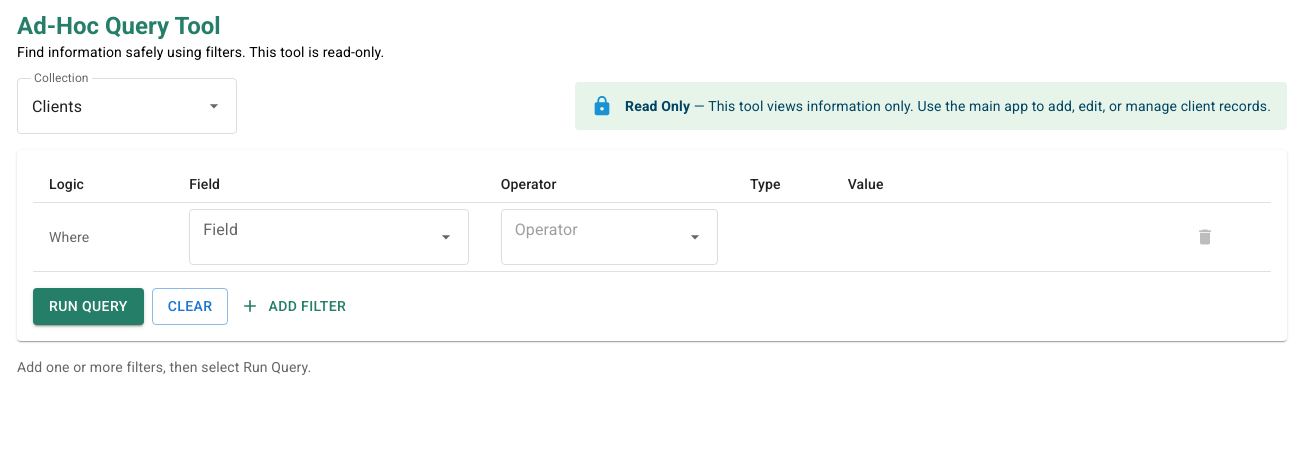
Test case: ClientQueryTool › Add Filter creates a new row
Click the button "Add Filter".
click(295, 306)  # box [236,288,354,324]
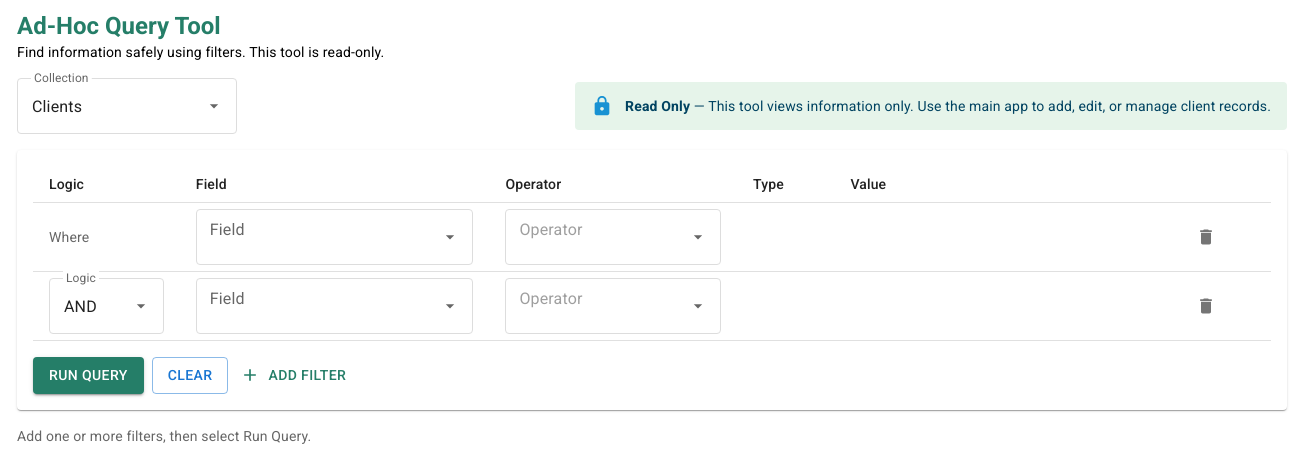
Expected: the number of buttons named "Remove filter" is 2, [1191,222,1221,252]; [1191,291,1221,321]
